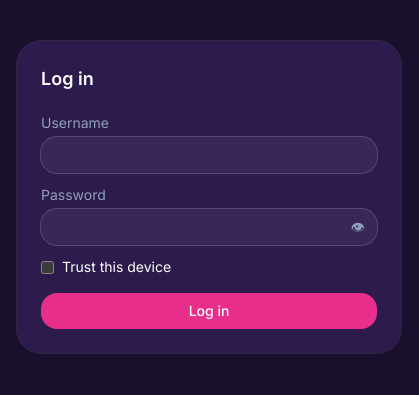
Test: the auth front door (ADR 0076) › login 429: the lockout countdown comes from the Retry-After header
Expected: the heading "Log in" is shown, [41,68,94,89]
Step 1. Type "alice" into the field labelled "Username" → (209, 155), box [41,137,377,173]
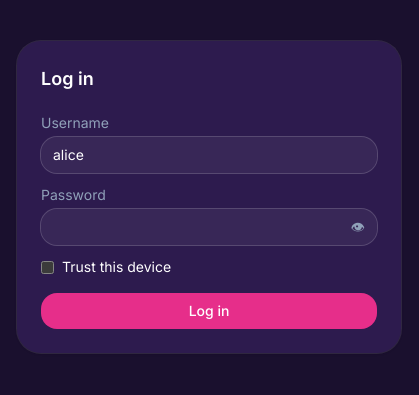
Step 2. Type "x" into the password field labelled "Password" → (209, 227), box [41,209,377,245]
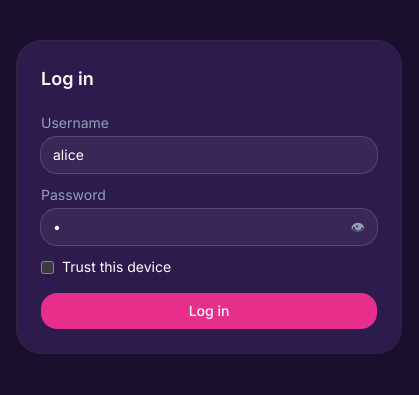
Step 3. Click the button "Log in" → (209, 311), box [41,293,377,329]
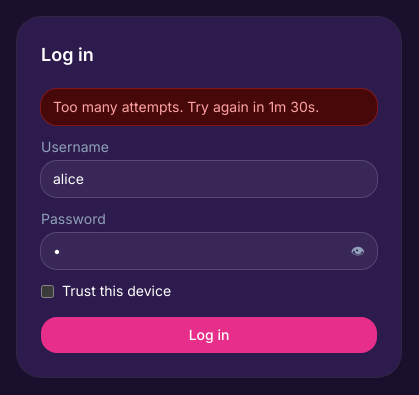
Result: the text "Too many attempts. Try again in 1m 30s." is shown at [41,89,377,125]
